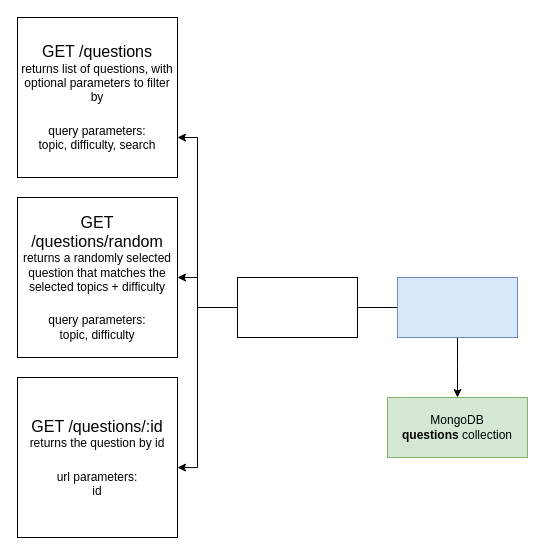
The diagram is 545 pixels wide and 555 high, and some of its shapes have lost their labels. Each missing label, with the centre of its shape:
"Authentication Middleware" goes at (297,307).
"Question Service" goes at (457,307).
